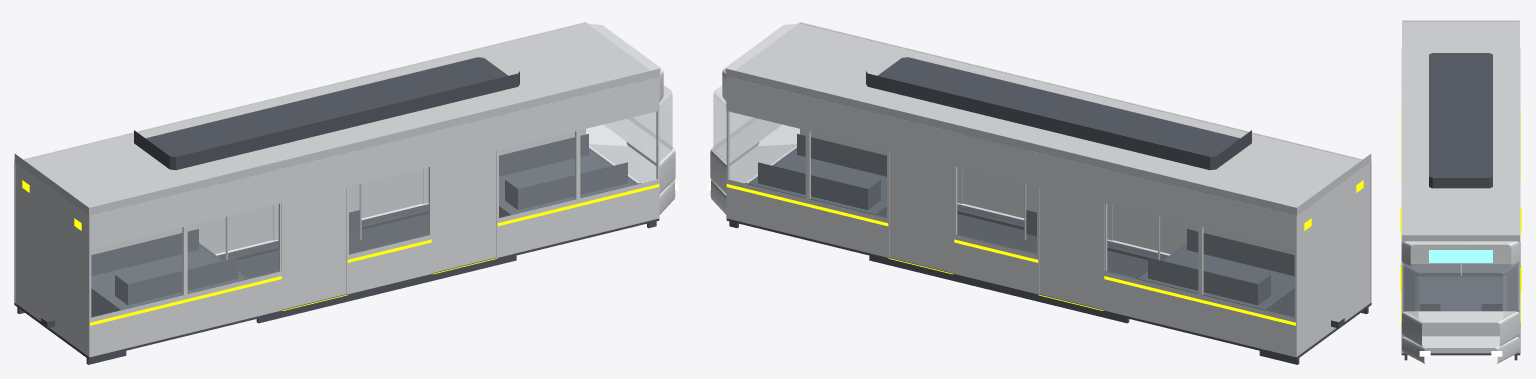
File: ext_tram_car_body_02.glb
3 views of the same model, side by side, from view 1: azimuth 30°, elevation 25°; view 2: azimuth 150°, elevation 25°; view 3: azimuth 270°, elevation 25° (orthographic). The views are drawn at different scales.
Visible parts, largest first — view 1: Roof, Side_Glass, Wall, Lower_Wall, Roof_Pods, End_Wall, Seats, Door_L_01, Door_L_02, Underframe, Wheel_Housing, Cab_Nose (+5 smaller); view 2: Roof, Side_Glass, Wall, Lower_Wall, Roof_Pods, End_Wall, Seats, Door_R_01, Door_R_02, Underframe, Wheel_Housing, Cab_Nose (+5 smaller); view 3: Roof, Roof_Pods, Cab_Nose, Cab_Glass, Underframe, Wheel_Housing, Seats, Destination_Screen, Wall, Livery_Stripe, Headlights, End_Wall.
Part boxes in pixels (<box>): Roof: <box>14,22,660,215</box>; Side_Glass: <box>91,112,656,316</box>; Wall: <box>14,23,659,317</box>; Lower_Wall: <box>14,129,659,357</box>; Roof_Pods: <box>134,57,519,170</box>; End_Wall: <box>16,162,87,355</box>; Seats: <box>91,134,627,305</box>; Door_L_01: <box>281,187,346,309</box>; Door_L_02: <box>432,150,496,272</box>; Underframe: <box>14,204,659,359</box>; Wheel_Housing: <box>91,147,640,317</box>; Cab_Nose: <box>587,23,675,214</box>; Roof: <box>725,22,1371,215</box>; Side_Glass: <box>729,112,1294,316</box>; Wall: <box>726,23,1371,317</box>; Lower_Wall: <box>726,129,1371,357</box>; Roof_Pods: <box>866,57,1251,170</box>; End_Wall: <box>1298,162,1369,355</box>; Seats: <box>758,134,1294,305</box>; Door_R_01: <box>1039,187,1104,309</box>; Door_R_02: <box>889,150,953,272</box>; Underframe: <box>726,204,1371,359</box>; Wheel_Housing: <box>745,147,1294,317</box>; Cab_Nose: <box>710,23,798,214</box>; Roof: <box>1402,20,1519,241</box>; Roof_Pods: <box>1429,53,1492,188</box>; Cab_Nose: <box>1402,241,1519,363</box>; Cab_Glass: <box>1402,264,1519,318</box>; Underframe: <box>1401,263,1520,355</box>; Wheel_Housing: <box>1415,276,1506,311</box>; Seats: <box>1419,278,1502,311</box>; Destination_Screen: <box>1429,250,1492,262</box>; Wall: <box>1401,47,1520,321</box>; Livery_Stripe: <box>1401,108,1520,327</box>; Headlights: <box>1419,351,1502,356</box>; End_Wall: <box>1404,21,1517,21</box>.
Bounding box in the file's own units: 12.16 × 3.28 × 2.66.
